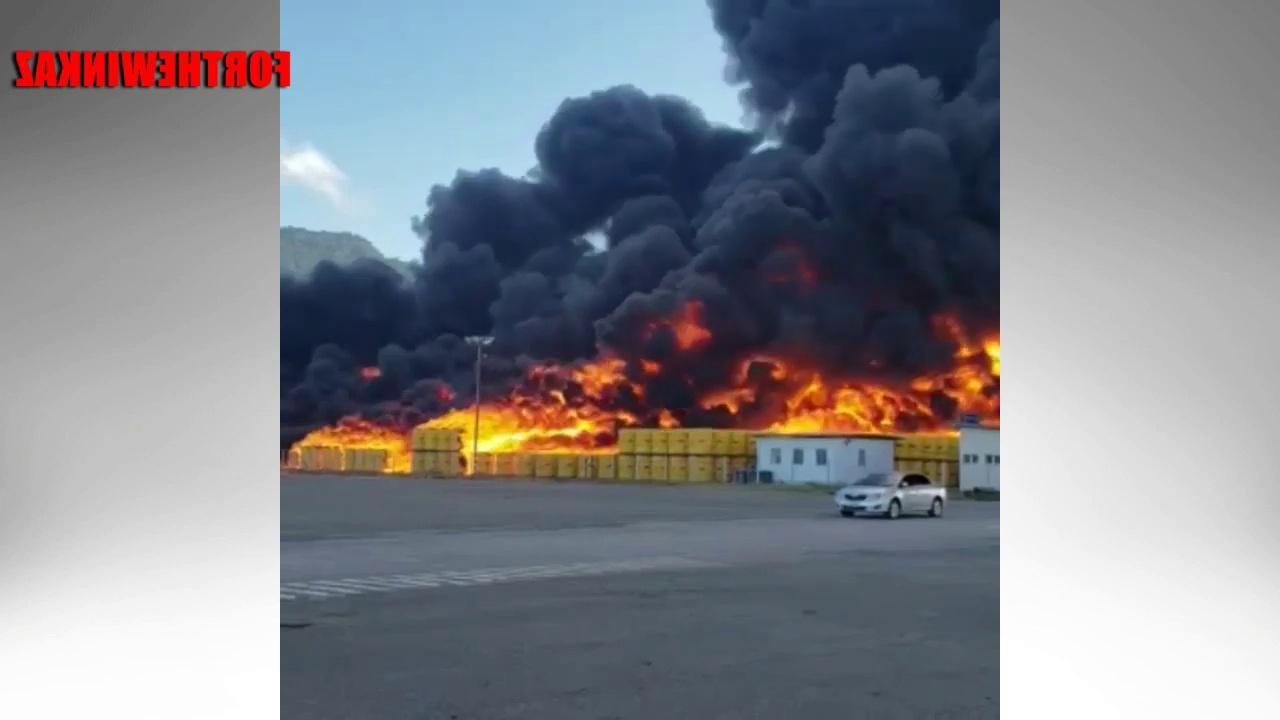Fire: (751, 347, 994, 436), (295, 394, 626, 450)
